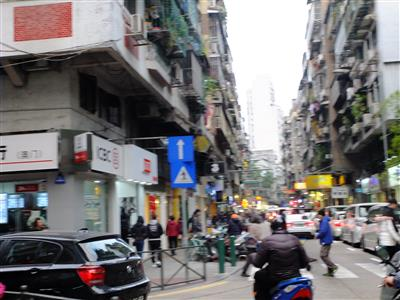oneway: (165, 133, 196, 162)
pedestrianCrossing: (167, 160, 198, 190)
